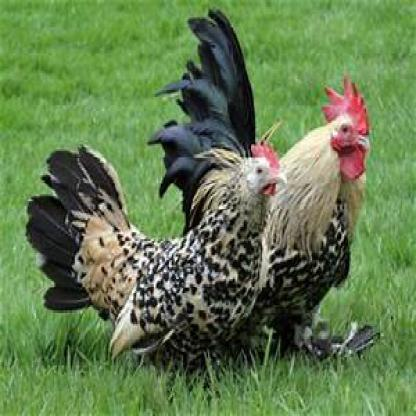chicken: (146, 7, 381, 360), (25, 139, 287, 364)
